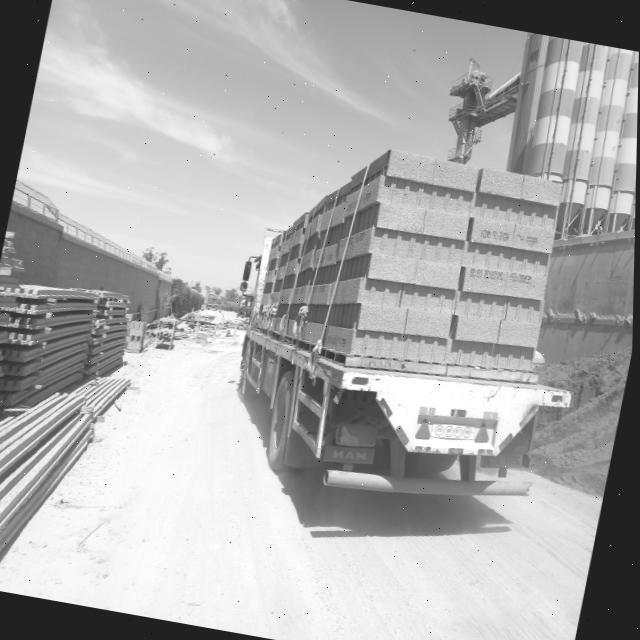bricks: (323, 149, 561, 370), (301, 167, 365, 344), (261, 192, 335, 335)
